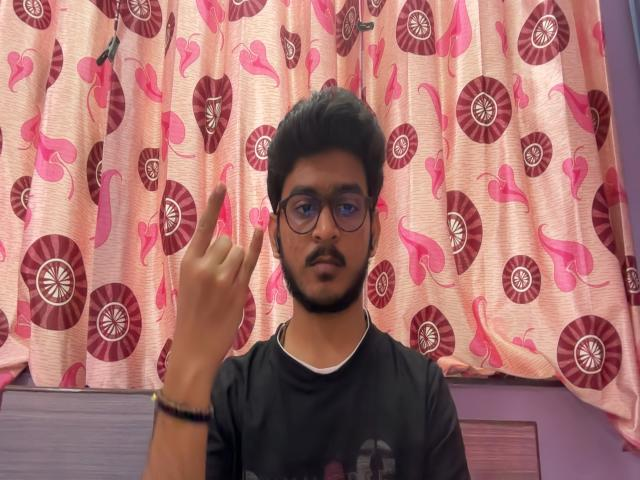I Love You: (166, 165, 272, 370)
